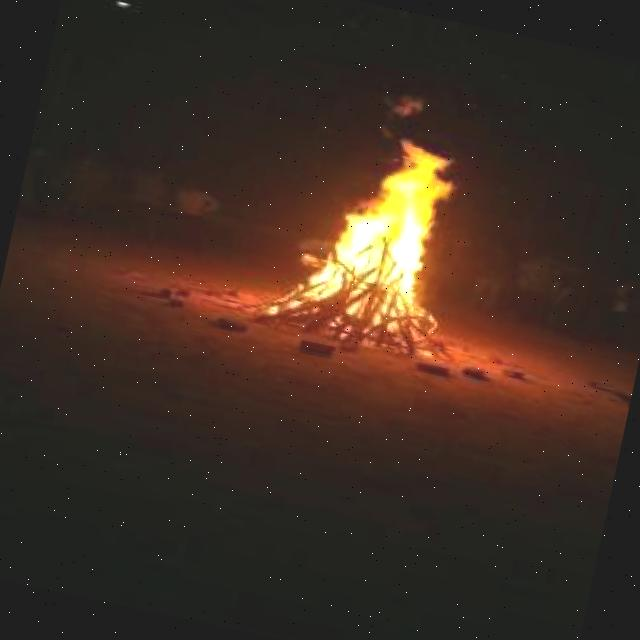fire: (284, 103, 474, 336)
